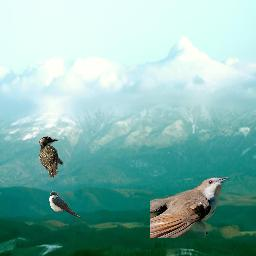Cuckoo: (150, 177, 229, 238)
Swallow: (49, 191, 82, 219)
Woodpecker: (39, 136, 64, 179)
